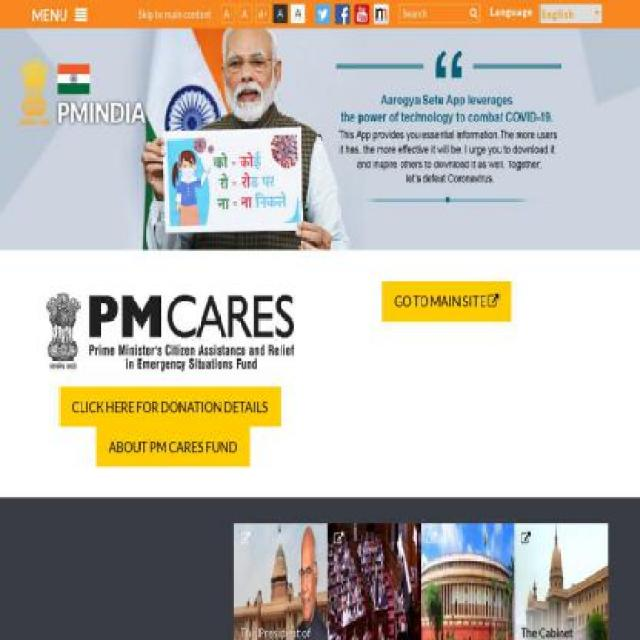button: (233, 522, 329, 640), (327, 522, 422, 640), (421, 522, 516, 640), (514, 522, 609, 640), (59, 386, 281, 428), (95, 426, 251, 468), (382, 280, 512, 322), (0, 82, 131, 98), (138, 4, 212, 24), (32, 6, 88, 23), (272, 4, 288, 24), (315, 4, 331, 24), (373, 4, 389, 24), (220, 4, 235, 24), (237, 4, 252, 24), (255, 4, 270, 24), (290, 4, 305, 24), (335, 4, 350, 24), (354, 4, 369, 24)
field: (398, 4, 480, 24), (538, 4, 602, 24)
